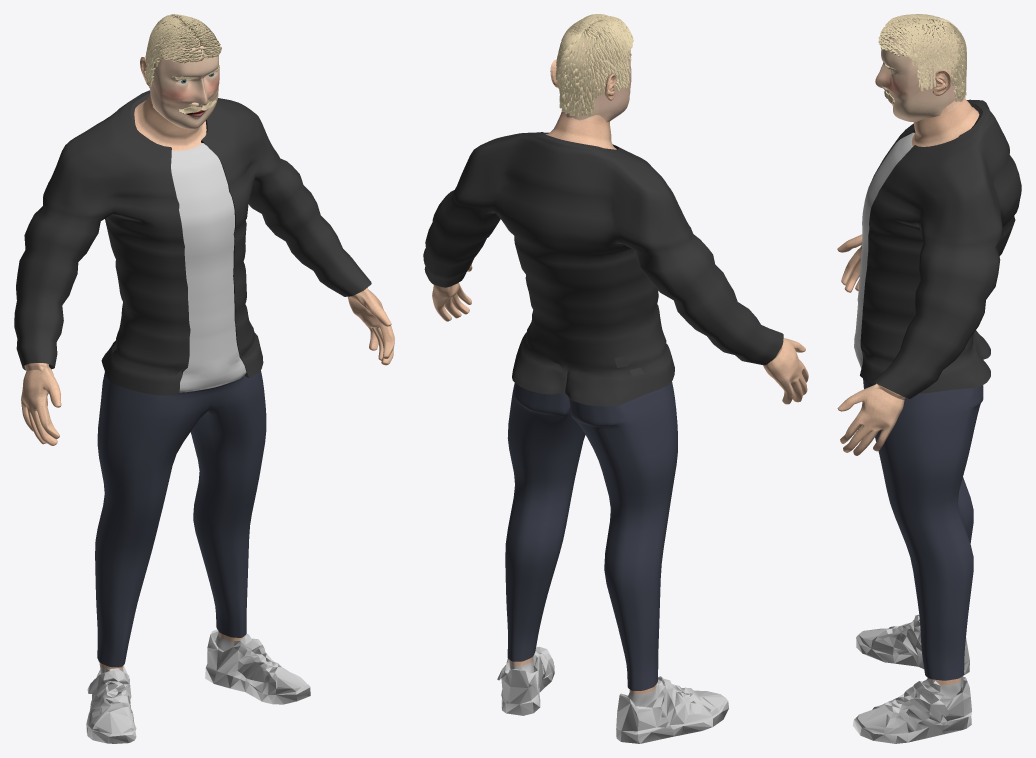
Rendered from ReelAlexvig.fbx.
The picture shows the model from 3 angles, left to right: view 1: azimuth 30°, elevation 25°; view 2: azimuth 150°, elevation 25°; view 3: azimuth 270°, elevation 25°; orthographic projection.
Visible parts, largest first — view 1: pasted__group4, skor, pasted__pCube3, pasted__polySurface1912; view 2: pasted__group4, skor, pasted__polySurface1912, pasted__pCube3; view 3: pasted__group4, skor, pasted__polySurface1912, pasted__pCube3, pasted__Öra1.
Part boxes in pixels (x1,y1,x2,y2): pasted__group4: (14,90,394,673); skor: (86,629,310,743); pasted__pCube3: (150,33,219,129); pasted__polySurface1912: (145,14,221,87); pasted__group4: (423,112,808,706); skor: (497,646,728,743); pasted__polySurface1912: (555,14,633,117); pasted__pCube3: (565,31,631,122); pasted__group4: (837,97,1021,696); skor: (852,614,971,743); pasted__polySurface1912: (878,14,966,101); pasted__pCube3: (875,25,963,121); pasted__Öra1: (932,69,951,95).
Size of the model in its own units: 6.25 by 11.49 by 2.83.
